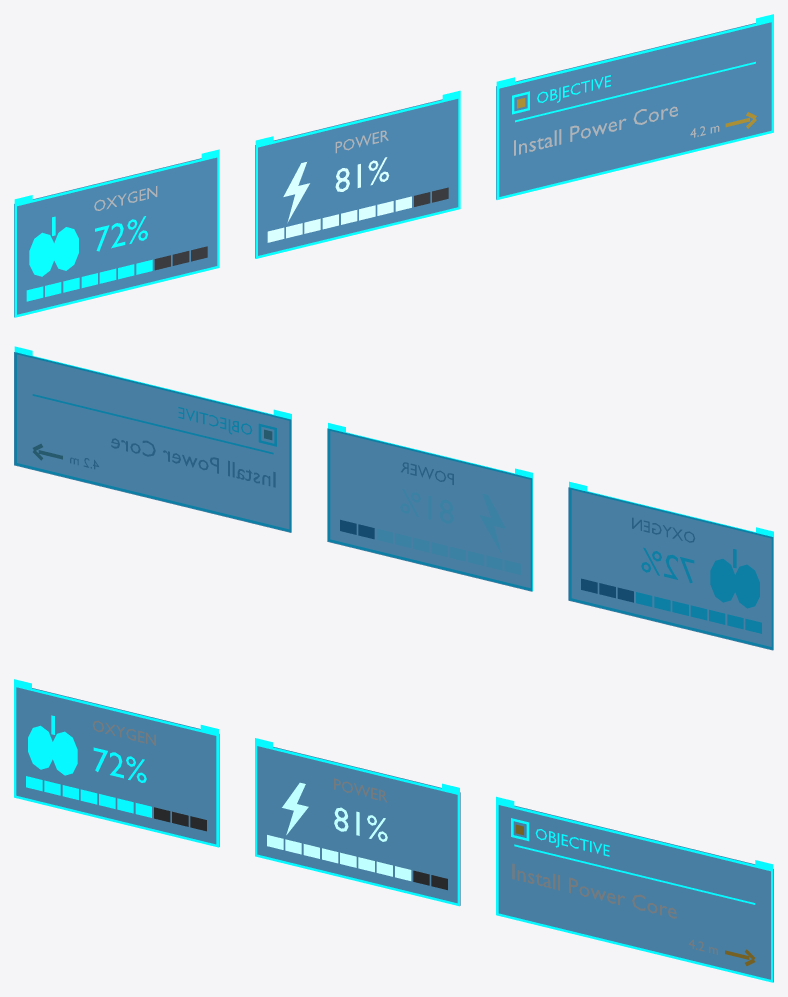
Rendered from FV_MissionHUD.fbx.
3 renders of one model, top to bottom at view 1: azimuth 30°, elevation 25°; view 2: azimuth 150°, elevation 25°; view 3: azimuth 330°, elevation 25°, orthographic.
Parts seen in each view (by area): view 1: HUD_Objective, HUD_Power, HUD_Oxygen; view 2: HUD_Objective, HUD_Oxygen, HUD_Power; view 3: HUD_Objective, HUD_Oxygen, HUD_Power.
Boxes of the visible parts, bbox=[...] form: HUD_Objective: bbox=[496, 14, 773, 199]; HUD_Power: bbox=[255, 90, 460, 258]; HUD_Oxygen: bbox=[14, 149, 219, 317]; HUD_Objective: bbox=[14, 346, 291, 532]; HUD_Oxygen: bbox=[568, 481, 773, 650]; HUD_Power: bbox=[327, 423, 532, 591]; HUD_Objective: bbox=[496, 796, 773, 982]; HUD_Oxygen: bbox=[14, 679, 219, 847]; HUD_Power: bbox=[255, 738, 460, 906].
Size of the model in its own units: 1.26 by 0.188 by 0.003.
